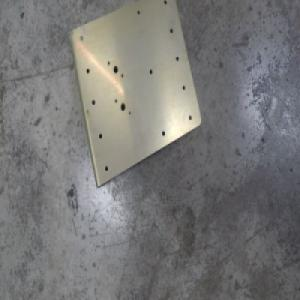MetalSheet: (66, 0, 202, 190)
